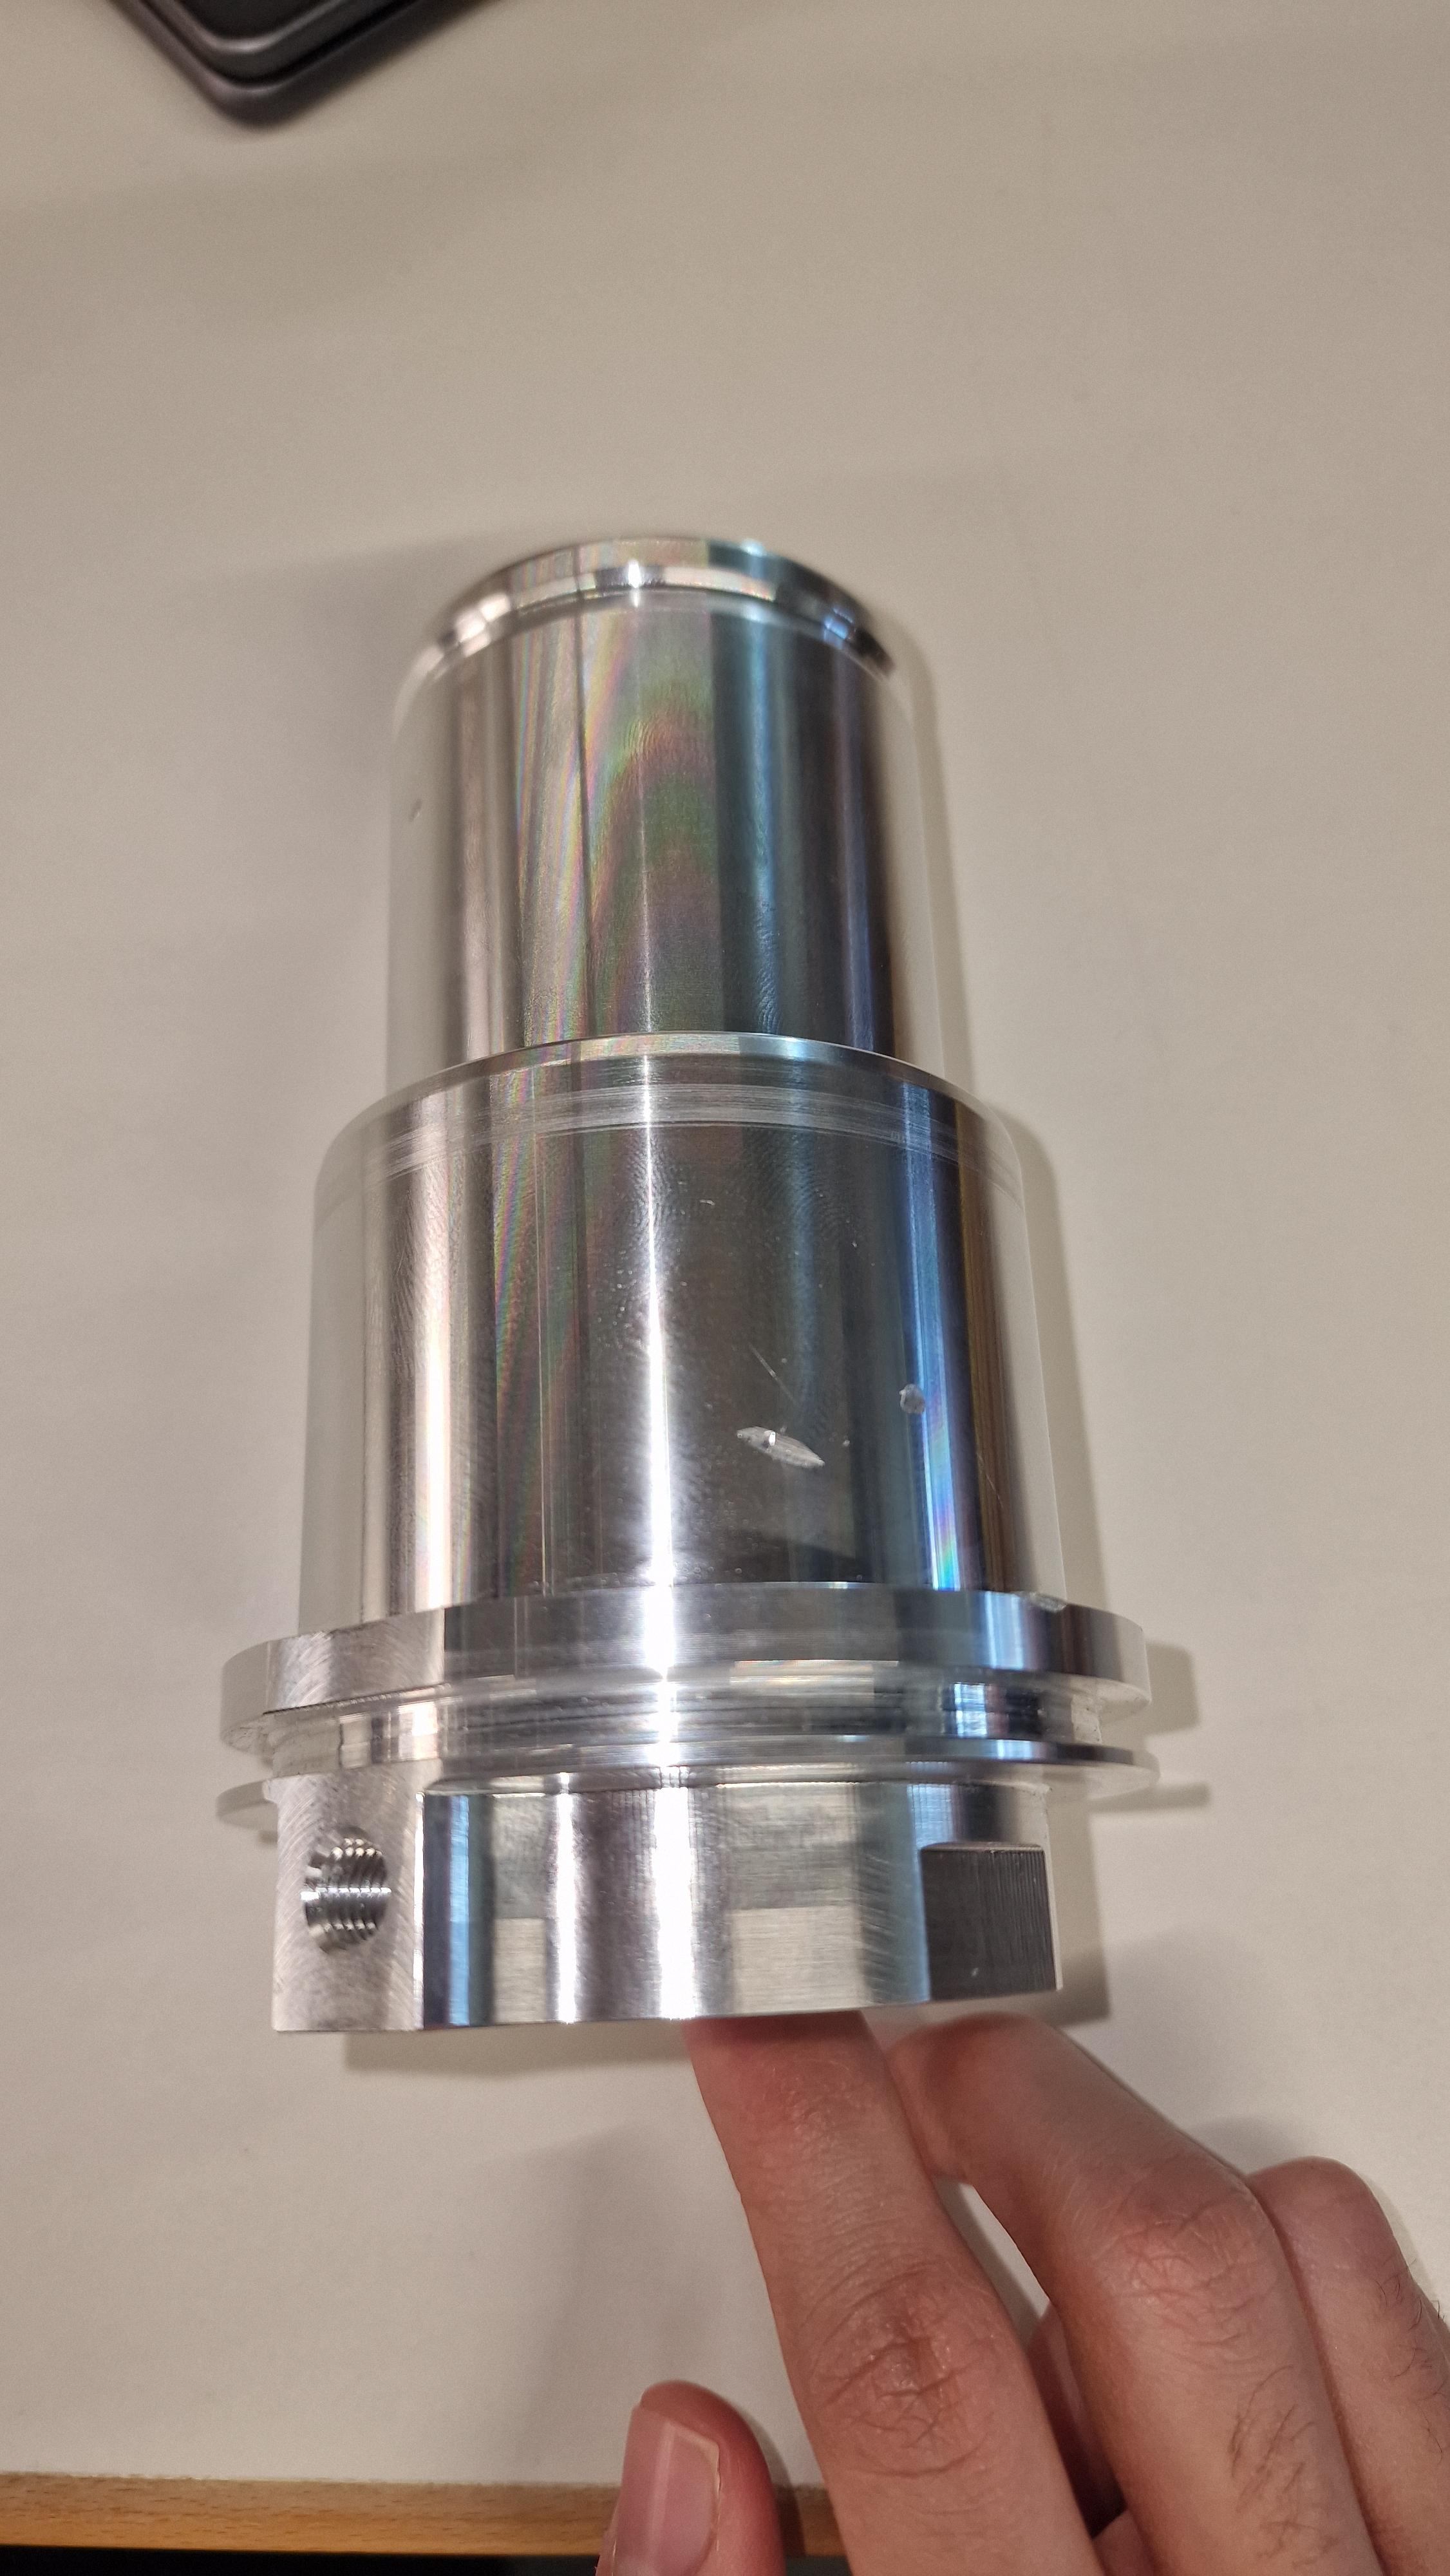damage: (732, 1422, 833, 1472), (1004, 1585, 1077, 1617), (895, 1380, 934, 1421), (400, 796, 426, 824)
objects: (216, 510, 1174, 2042)
